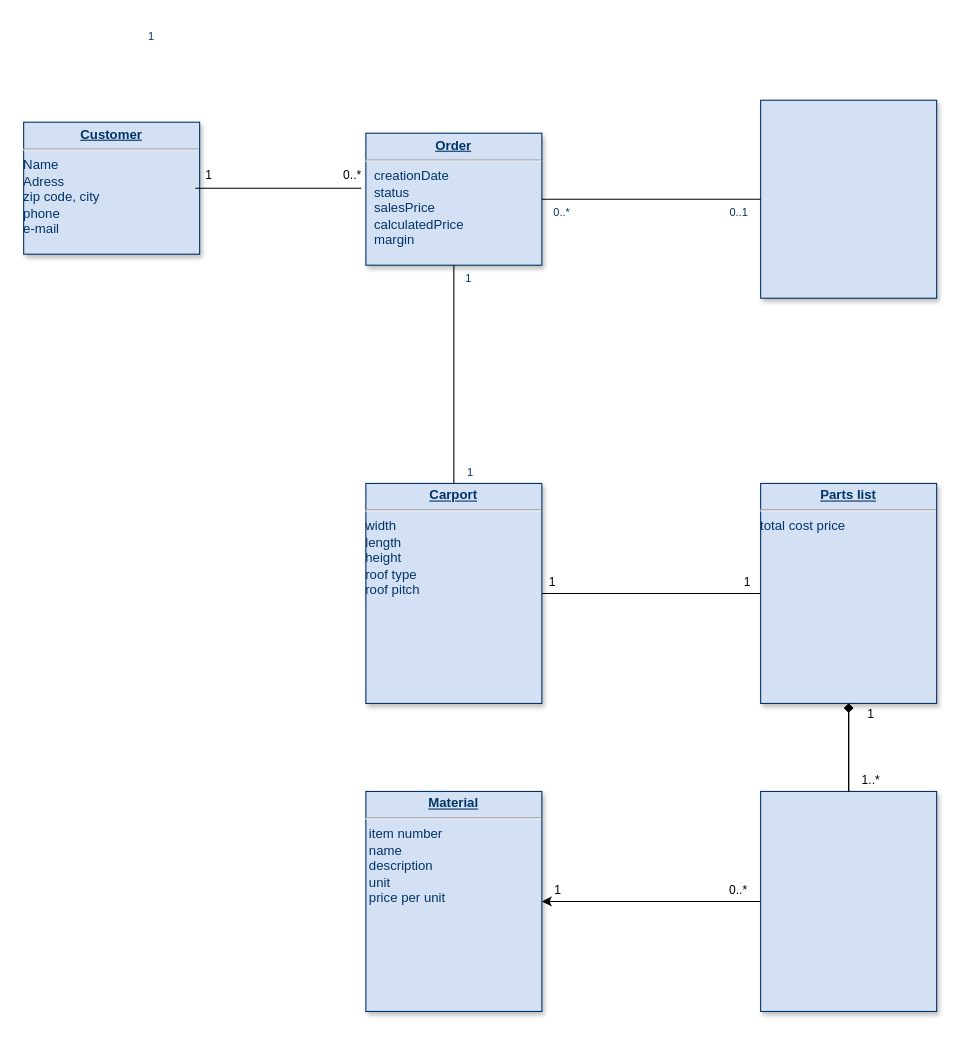
Some shapes in this 963 by 1040 pixel diagram are drawn without their labels. The shapes that lost their labels are listed below. From the top down, each one's centre as x and y in pixels, then its label:
[849,200]: Salesperson name e-mail
[849,902]: Parts list line quantity length helpText
